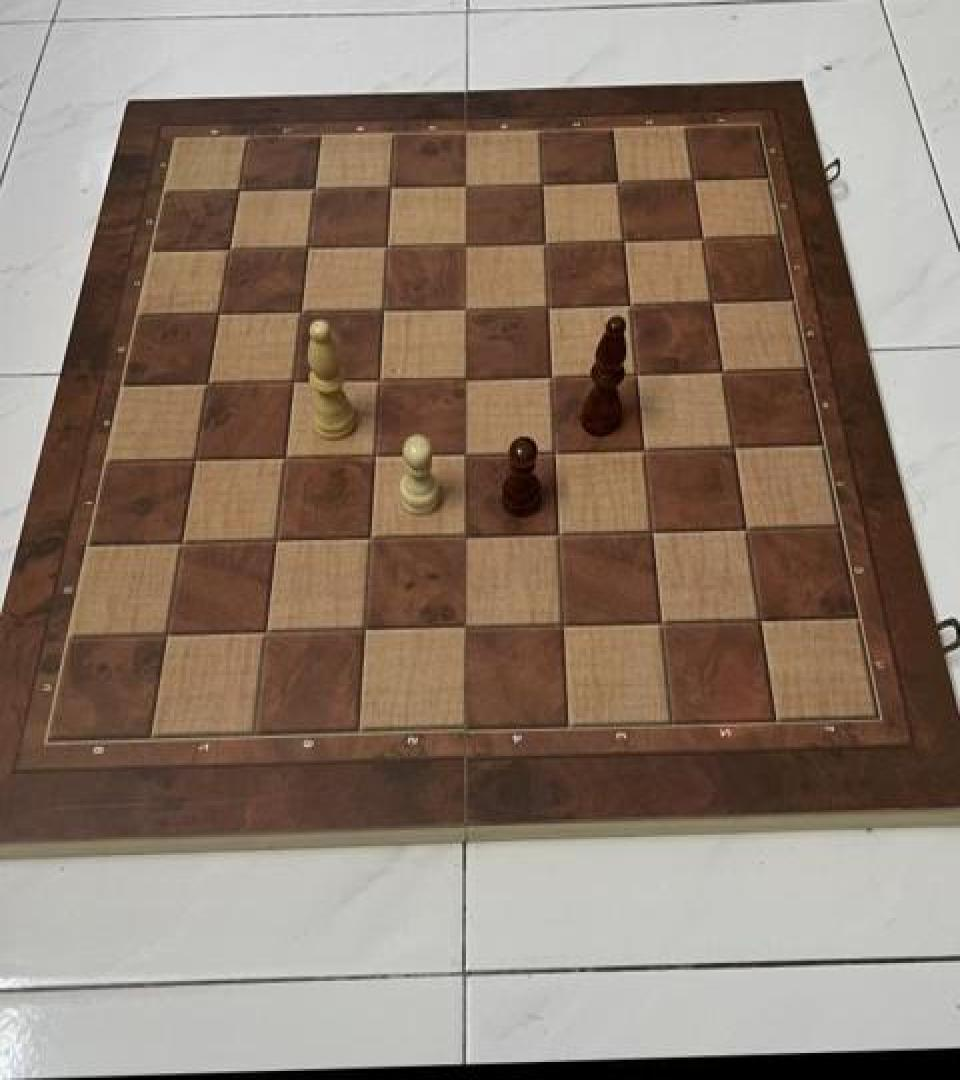xcorner: (677, 157, 711, 196), (607, 219, 641, 258), (366, 290, 400, 329), (357, 436, 391, 475), (543, 606, 577, 645), (222, 171, 256, 209), (298, 169, 332, 207), (374, 166, 408, 204), (450, 164, 484, 202), (525, 162, 559, 200), (601, 160, 635, 198), (212, 231, 246, 269), (291, 228, 325, 266), (370, 226, 404, 264), (449, 224, 483, 262), (528, 222, 562, 260), (685, 217, 719, 255), (201, 295, 235, 333), (284, 292, 318, 330), (448, 288, 482, 326), (530, 286, 564, 324), (612, 282, 646, 320), (695, 280, 729, 318), (190, 364, 224, 402), (276, 362, 310, 400), (361, 360, 395, 398), (447, 358, 481, 396), (533, 356, 567, 394), (619, 352, 653, 390), (705, 350, 739, 388), (177, 442, 211, 480), (267, 439, 301, 477), (446, 434, 480, 472), (536, 431, 570, 469), (626, 429, 660, 467), (716, 426, 750, 464), (163, 526, 197, 564), (257, 523, 291, 561), (351, 520, 385, 558), (445, 518, 479, 556), (540, 516, 574, 554), (634, 512, 668, 550), (728, 510, 762, 548), (147, 619, 181, 657), (246, 616, 280, 654), (345, 613, 379, 651), (444, 610, 478, 648), (642, 604, 676, 642), (741, 601, 775, 639)
